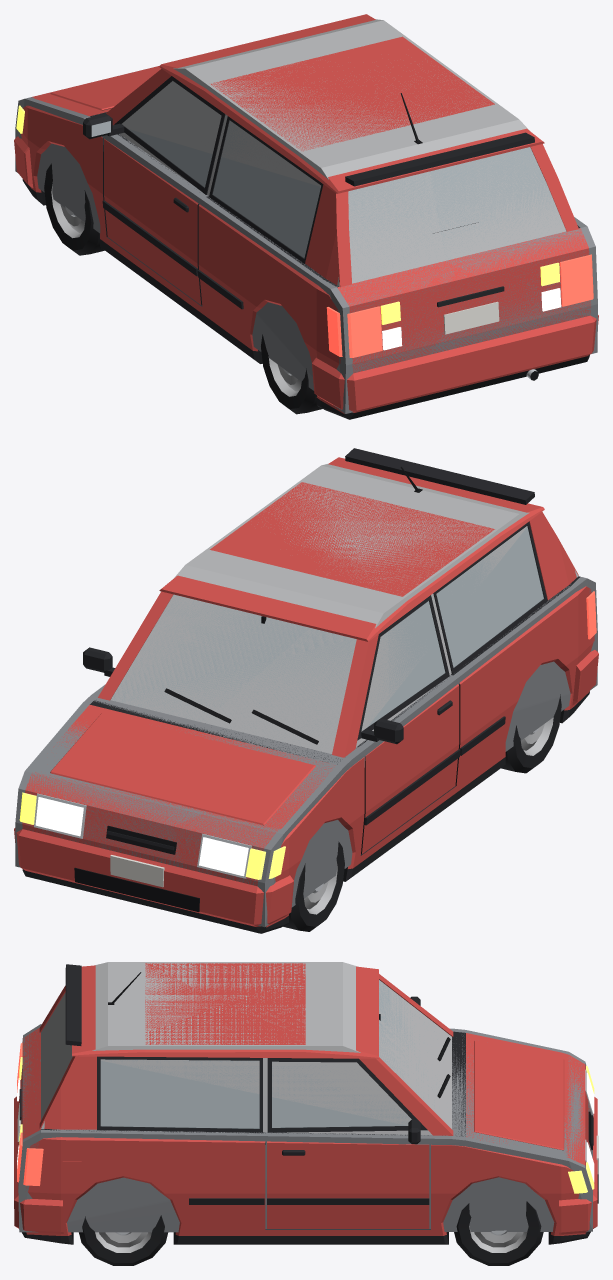
The model's file is car_compact.glb.
3 renders of one model, top to bottom at view 1: azimuth 30°, elevation 25°; view 2: azimuth 150°, elevation 25°; view 3: azimuth 270°, elevation 25°, orthographic. The views are drawn at different scales.
Visible parts, largest first — view 1: car_compact__body, car_compact__col_cabin, car_compact__col_body, car_compact__door_fl, car_compact__wheel_fl, car_compact__wheel_rl; view 2: car_compact__body, car_compact__col_cabin, car_compact__col_body, car_compact__door_fl, car_compact__wheel_fl, car_compact__wheel_rl, car_compact__door_fr; view 3: car_compact__body, car_compact__col_cabin, car_compact__col_body, car_compact__door_fr, car_compact__wheel_fr, car_compact__wheel_rr.
Boxes of the visible parts, x1,y1,x2,y2 form: car_compact__body: [14, 14, 598, 419]; car_compact__col_cabin: [119, 19, 566, 286]; car_compact__col_body: [15, 72, 597, 413]; car_compact__door_fl: [83, 76, 225, 305]; car_compact__wheel_fl: [44, 163, 104, 255]; car_compact__wheel_rl: [261, 334, 322, 414]; car_compact__body: [14, 448, 598, 933]; car_compact__col_cabin: [111, 464, 578, 753]; car_compact__col_body: [15, 577, 597, 927]; car_compact__door_fl: [357, 595, 460, 854]; car_compact__wheel_fl: [283, 841, 344, 931]; car_compact__wheel_rl: [501, 694, 561, 773]; car_compact__door_fr: [83, 647, 115, 676]; car_compact__body: [14, 963, 598, 1244]; car_compact__col_cabin: [41, 962, 451, 1134]; car_compact__col_body: [18, 1024, 592, 1232]; car_compact__door_fr: [267, 1058, 429, 1228]; car_compact__wheel_fr: [454, 1201, 543, 1265]; car_compact__wheel_rr: [79, 1215, 168, 1265].
Size of what is drawn, in the model's own units: 2.04 by 1.72 by 3.76.
9 materials, 2 textured.
